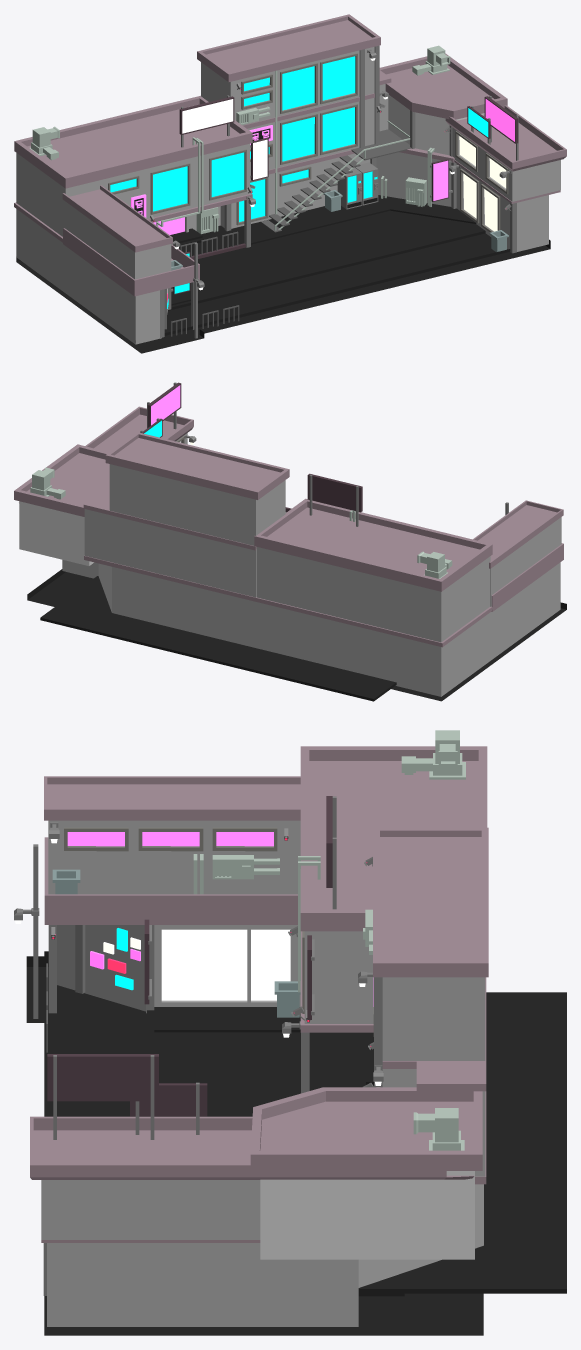
The model's file is modele.gltf.
The picture shows the model from 3 angles, top to bottom: view 1: azimuth 30°, elevation 25°; view 2: azimuth 150°, elevation 25°; view 3: azimuth 270°, elevation 25°; orthographic projection. The views are drawn at different scales.
Visible parts, largest first — view 1: rez-de-chausée, sol1, sol2, maison2-toit, maison3-lux, maison3-toit, maison2-etage, maison4-toit2, sol3, maison1-toit, maison4-toit1, maison3-etage2 (+31 smaller); view 2: rez-de-chausée, maison2-etage, maison2-toit, sol3, maison3-etage1, maison3-etage2, maison3-toit, maison4-toit2, maison4-etage1, maison1-toit, sol1, maison1-etage1 (+9 smaller); view 3: rez-de-chausée, sol3, maison2-toit, maison4-etage1, maison3-toit, maison4-toit2, sol1, maison4-toit1, maison4-etage, maison1-etage1, maison1-toit, sol2 (+23 smaller).
Part boxes in pixels (x1,y1,x2,y2): rez-de-chausée: (16, 152, 548, 344); sol1: (16, 233, 550, 353); sol2: (168, 210, 485, 310); maison2-toit: (14, 95, 252, 188); maison3-lux: (239, 56, 355, 221); maison3-toit: (197, 14, 380, 81); maison2-etage: (16, 143, 249, 236); maison4-toit2: (379, 53, 507, 119); sol3: (178, 195, 476, 255); maison1-toit: (62, 185, 172, 252); maison4-toit1: (445, 105, 566, 171); maison3-etage2: (201, 47, 374, 125); rez-de-chausée: (62, 560, 560, 696); maison2-etage: (256, 547, 490, 642); maison2-toit: (254, 498, 492, 591); sol3: (40, 576, 396, 701); maison3-etage1: (84, 509, 256, 597); maison3-etage2: (109, 464, 285, 545); maison3-toit: (105, 432, 289, 499); maison4-toit2: (14, 444, 109, 516); maison4-etage1: (19, 501, 93, 565); maison1-toit: (473, 500, 563, 568); sol1: (27, 569, 566, 701); maison1-etage1: (490, 517, 561, 606); rez-de-chausée: (47, 925, 483, 1326); sol3: (309, 992, 566, 1293); maison2-toit: (300, 746, 487, 931); maison4-etage1: (260, 1171, 474, 1259); maison3-toit: (373, 827, 488, 977); maison4-toit2: (250, 1087, 482, 1170); sol1: (26, 951, 483, 1335); maison4-toit1: (30, 1116, 474, 1179); maison4-etage: (41, 1180, 260, 1239); maison1-etage1: (48, 820, 300, 894); maison1-toit: (44, 776, 300, 820); sol2: (147, 1010, 404, 1296).
Bounding box in the file's own units: 17.61 × 6.51 × 10.76.
